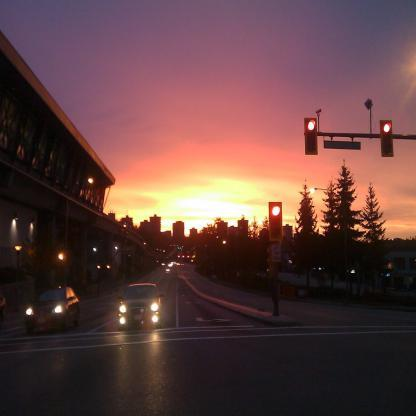car: (24, 282, 81, 334), (112, 279, 164, 334)
